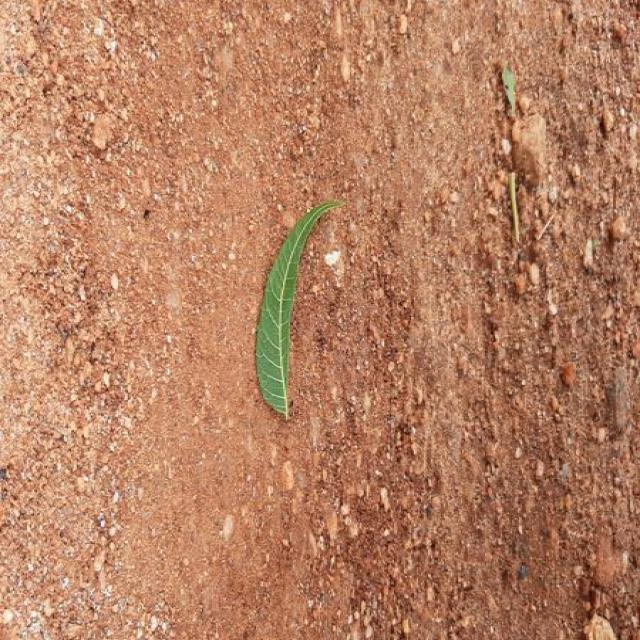neem: (255, 201, 342, 417)
